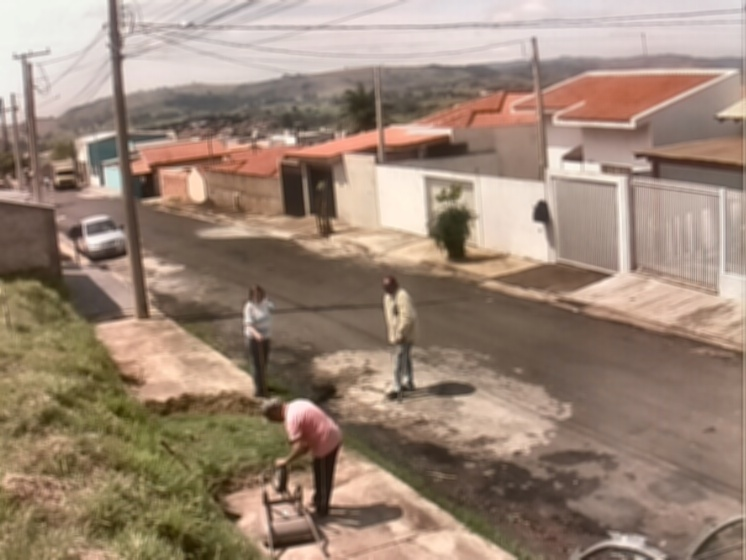person: (261, 399, 343, 518), (382, 275, 417, 400), (242, 285, 275, 399)
